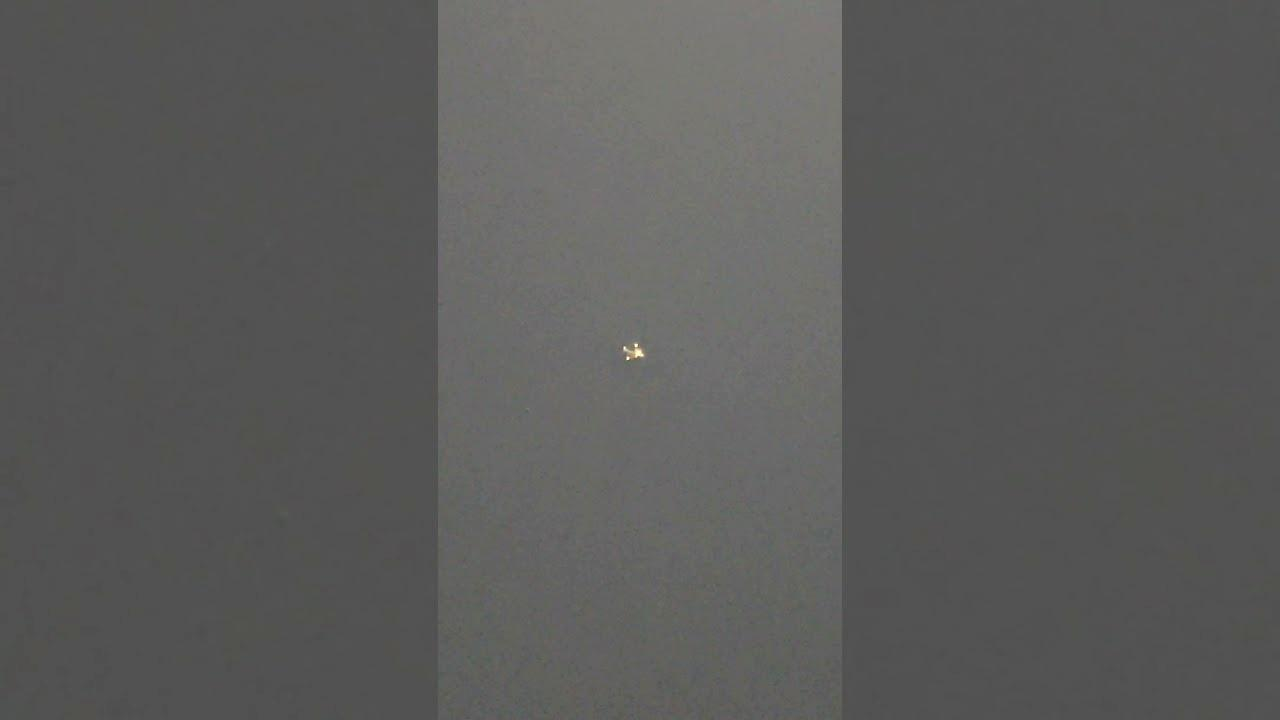Plane: (600, 331, 664, 372)
